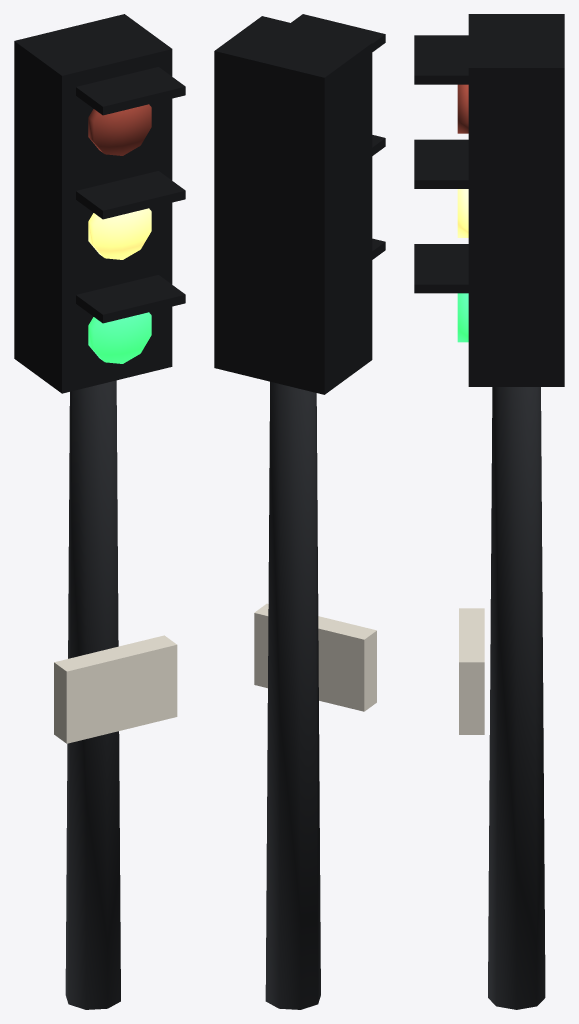
Rendered from cp_tlight.glb.
3 renders of one model, left to right at view 1: azimuth 30°, elevation 25°; view 2: azimuth 150°, elevation 25°; view 3: azimuth 270°, elevation 25°, orthographic.
Parts seen in each view (by area): view 1: city_cp_tlight; view 2: city_cp_tlight; view 3: city_cp_tlight.
Boxes of the visible parts, <box> form: city_cp_tlight: <box>14,14,185,1009</box>; city_cp_tlight: <box>214,14,385,1009</box>; city_cp_tlight: <box>414,14,564,1009</box>.
Size of the model in its own units: 0.4 by 3.3 by 0.47.
Materials: 2 (2 with a texture image).
